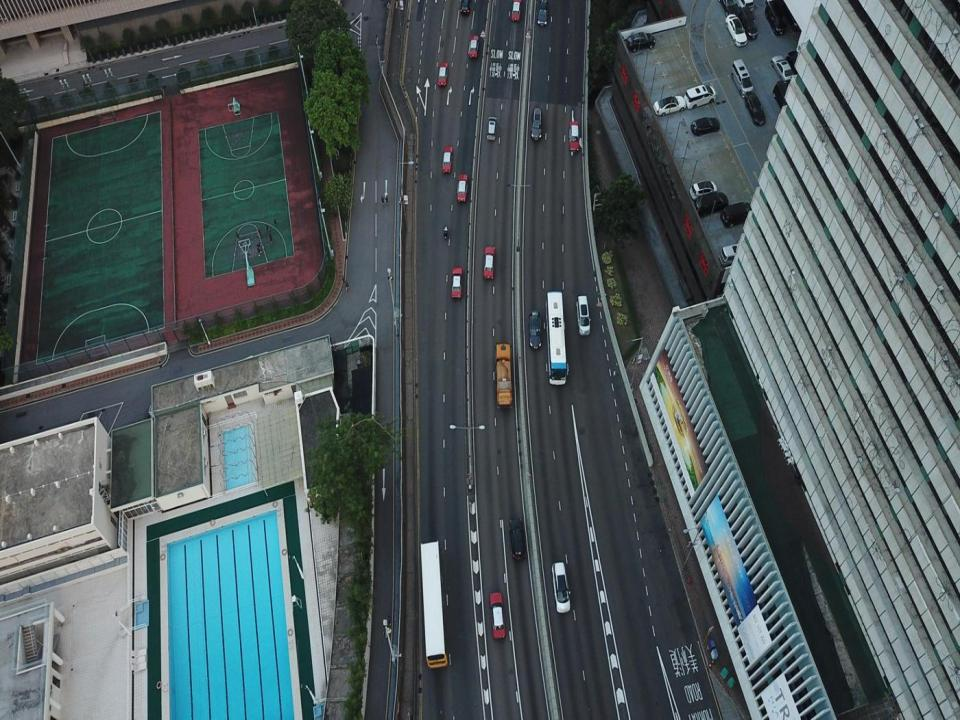bus: (420, 540, 448, 669), (545, 292, 569, 384)
car: (552, 561, 571, 613), (489, 592, 506, 640), (653, 95, 686, 117), (725, 13, 747, 46), (509, 518, 525, 560), (745, 91, 763, 127), (691, 117, 720, 137), (627, 32, 656, 52), (528, 310, 542, 349), (482, 246, 494, 278), (530, 108, 542, 140), (451, 267, 462, 299), (569, 120, 580, 152), (456, 174, 468, 202), (442, 145, 453, 173), (438, 61, 449, 87), (537, 0, 548, 26), (486, 116, 497, 141), (721, 0, 738, 15), (468, 36, 479, 58), (511, 1, 522, 21), (460, 0, 471, 15)
truck: (495, 342, 513, 410)
van: (730, 58, 754, 99), (695, 191, 729, 218), (720, 202, 754, 228), (684, 85, 716, 109), (738, 7, 758, 40), (689, 180, 718, 200), (576, 294, 590, 334), (719, 244, 741, 267), (739, 0, 754, 11)
